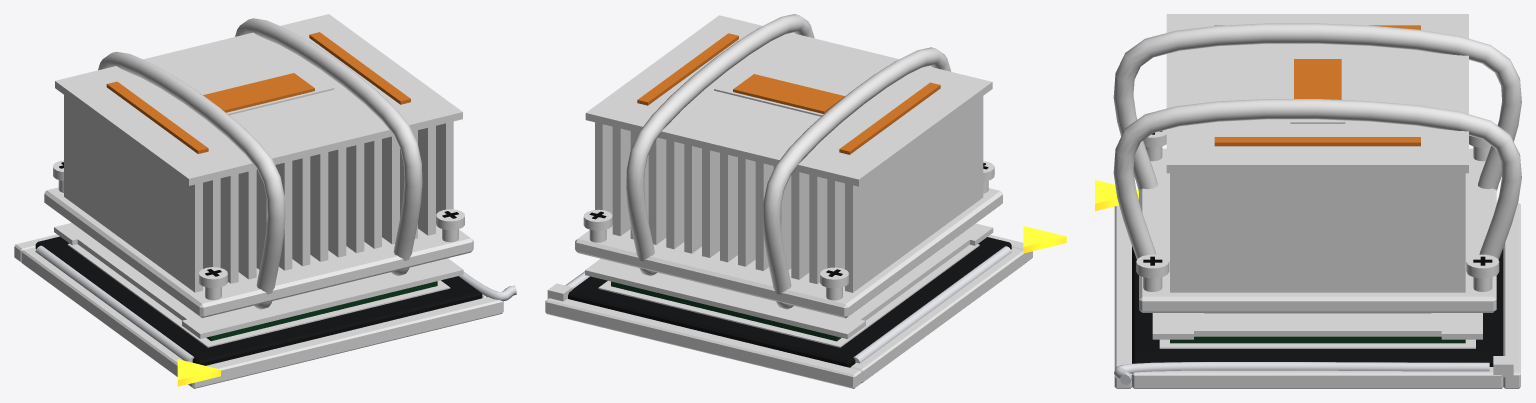
File: hwm_cpu_epyc_7302p.glb
3 renders of one model, left to right at view 1: azimuth 30°, elevation 25°; view 2: azimuth 150°, elevation 25°; view 3: azimuth 270°, elevation 25°, orthographic. The views are drawn at different scales.
Parts seen in each view (by area): view 1: Cooler, Socket, Frame, CPU, Screw_1, Screw_3, Lever; view 2: Cooler, Socket, Frame, CPU, Screw_2, Screw_0; view 3: Cooler, Socket, Frame, Lever, CPU, Screw_2, Screw_3, Screw_1, Screw_0.
Part boxes in pixels (bbox=[...]): Cooler: bbox=[44, 14, 473, 317]; Socket: bbox=[14, 234, 503, 388]; Frame: bbox=[54, 223, 463, 338]; CPU: bbox=[206, 281, 437, 340]; Screw_1: bbox=[199, 267, 227, 300]; Screw_3: bbox=[436, 209, 464, 242]; Lever: bbox=[459, 272, 516, 301]; Cooler: bbox=[575, 14, 1002, 318]; Socket: bbox=[545, 226, 1066, 388]; Frame: bbox=[585, 223, 993, 338]; CPU: bbox=[611, 281, 841, 341]; Screw_2: bbox=[583, 209, 612, 242]; Screw_0: bbox=[820, 267, 848, 300]; Cooler: bbox=[1113, 14, 1521, 312]; Socket: bbox=[1095, 180, 1520, 388]; Frame: bbox=[1152, 313, 1482, 339]; Lever: bbox=[1114, 362, 1489, 384]; CPU: bbox=[1170, 313, 1465, 343]; Screw_2: bbox=[1466, 254, 1499, 291]; Screw_3: bbox=[1136, 254, 1169, 291]; Screw_1: bbox=[1143, 129, 1166, 161]; Screw_0: bbox=[1469, 135, 1490, 161].
Size of the model in its own units: 0.1338 by 0.0775 by 0.1241.
